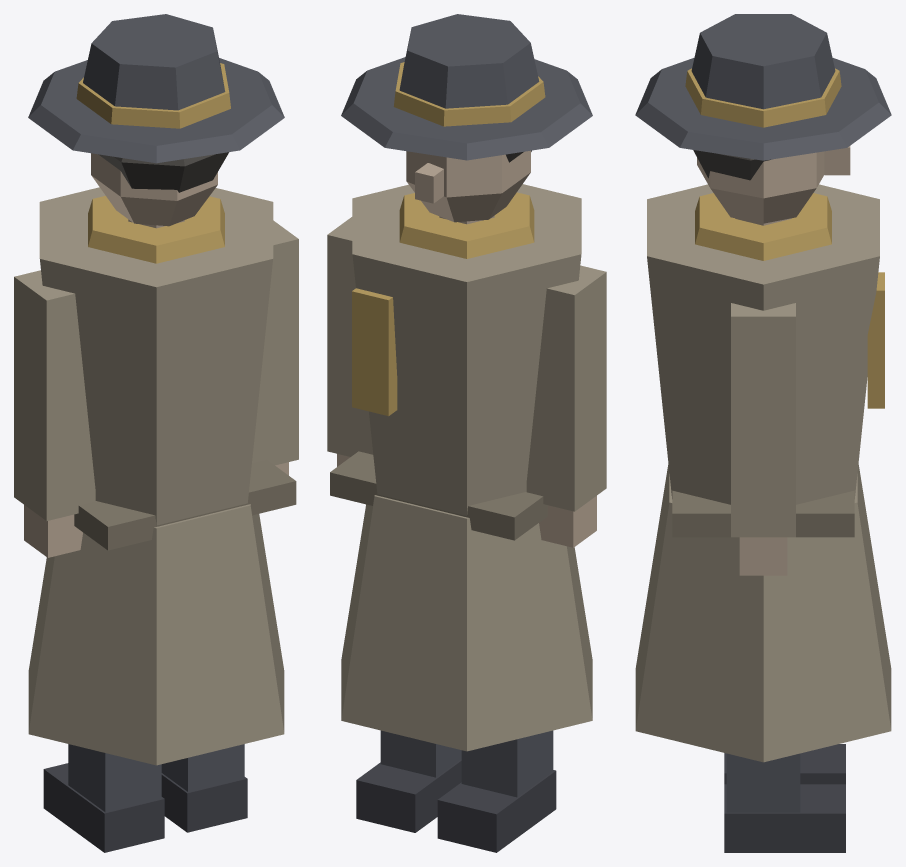
Rendered from personaje_detective.glb.
3 renders of one model, left to right at view 1: azimuth 30°, elevation 25°; view 2: azimuth 150°, elevation 25°; view 3: azimuth 270°, elevation 25°, orthographic.
Parts seen in each view (by area): view 1: Detective_Torso, Detective_Cabeza, Detective_BrazoIzq, Detective_PiernaIzq, Detective_BrazoDer, Detective_PiernaDer; view 2: Detective_Torso, Detective_Cabeza, Detective_BrazoIzq, Detective_PiernaIzq, Detective_PiernaDer, Detective_BrazoDer; view 3: Detective_Torso, Detective_Cabeza, Detective_BrazoDer, Detective_PiernaDer, Detective_PiernaIzq.
Boxes of the visible parts, box(x1,y1,x2,y2) form: Detective_Torso: box(28, 187, 296, 765); Detective_Cabeza: box(28, 14, 284, 228); Detective_BrazoIzq: box(14, 270, 95, 557); Detective_PiernaIzq: box(43, 744, 164, 852); Detective_BrazoDer: box(252, 220, 298, 475); Detective_PiernaDer: box(161, 744, 247, 832); Detective_Torso: box(330, 184, 592, 751); Detective_Cabeza: box(341, 14, 592, 224); Detective_BrazoIzq: box(526, 265, 606, 547); Detective_PiernaIzq: box(437, 730, 556, 852); Detective_PiernaDer: box(356, 730, 461, 832); Detective_BrazoDer: box(327, 217, 373, 466); Detective_Torso: box(635, 184, 891, 762); Detective_Cabeza: box(635, 14, 891, 225); Detective_BrazoDer: box(731, 303, 795, 575); Detective_PiernaDer: box(724, 753, 845, 852); Detective_PiernaIzq: box(724, 744, 845, 784).
Size of the model in its own units: 0.68 by 1.98 by 0.5909.
